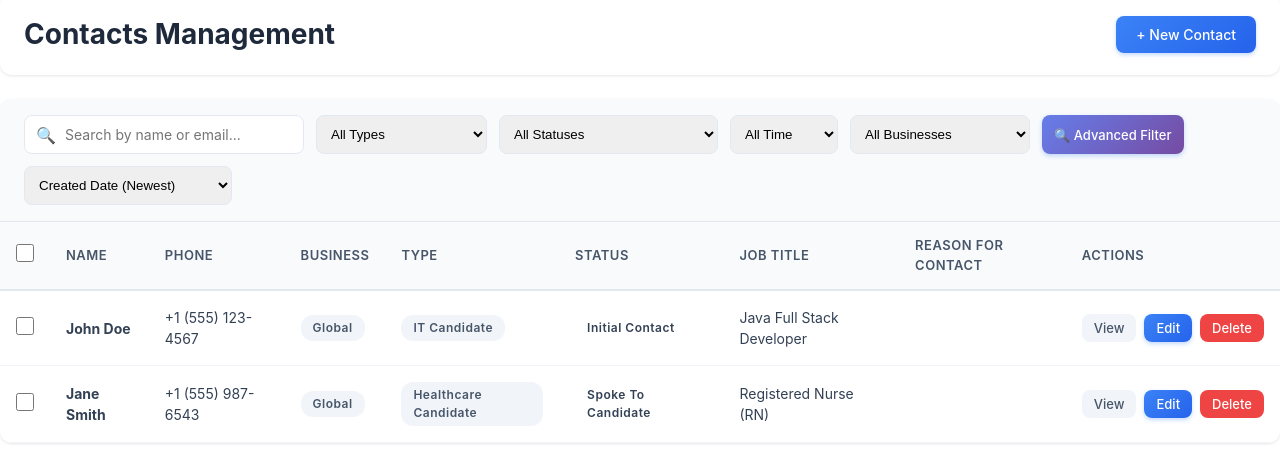
Test: ContactsManager Search and Filter › should filter contacts by first name search
Type "John" into the field with placeholder "Search by name or email..." at (164, 134), box [24, 115, 304, 154]
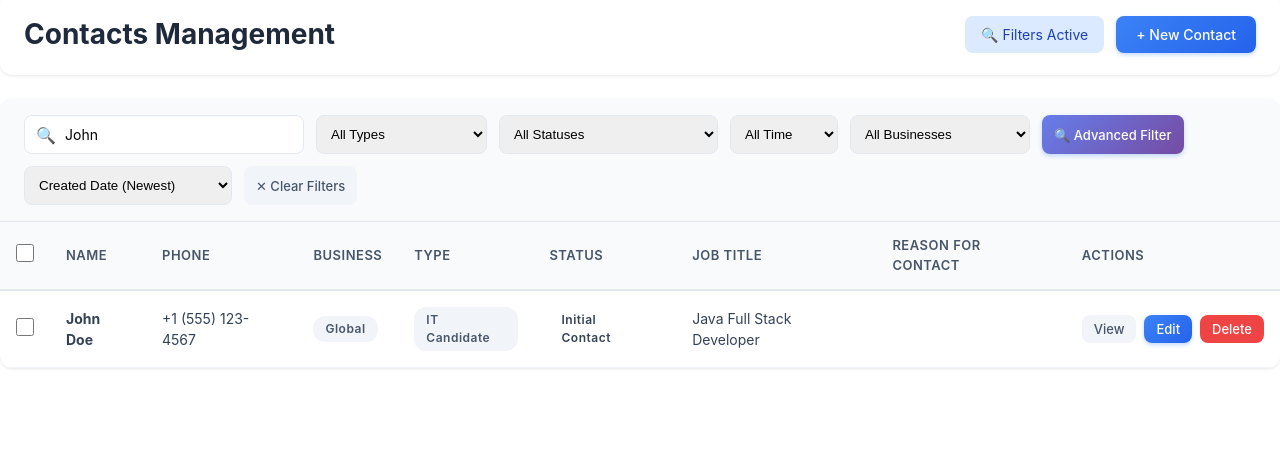
Check: the text "John Doe" is shown, box [66, 310, 100, 348]
Check: the text "Jane Smith" is gone
